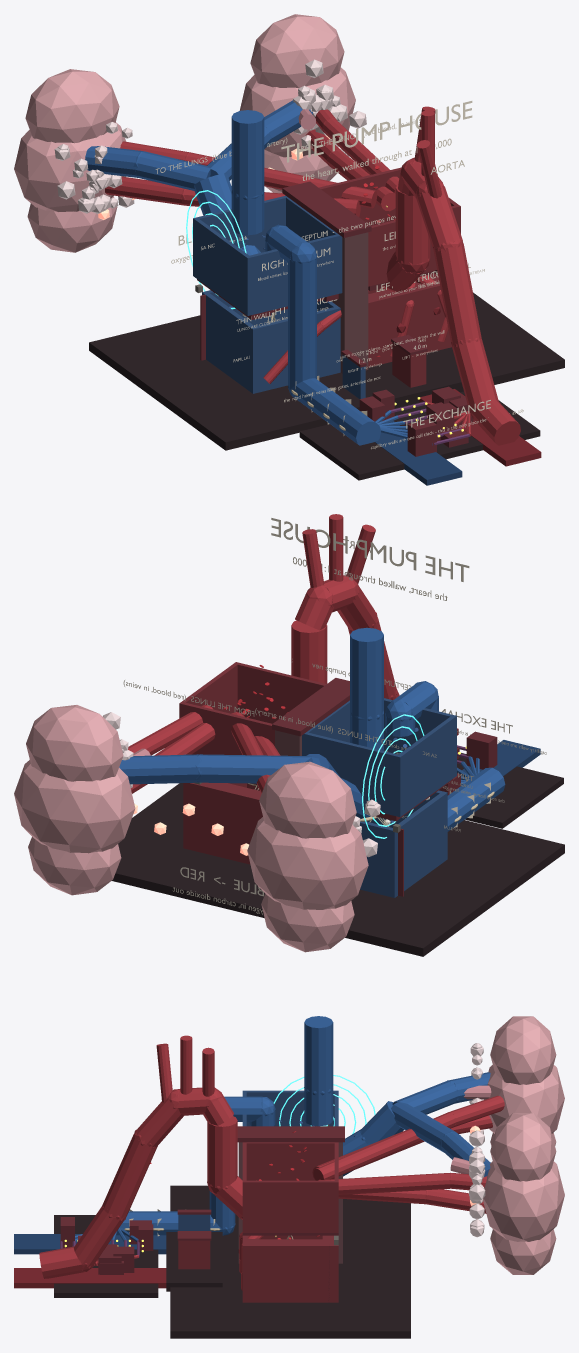
Rendered from body-heart.glb.
3 views of the same model, one above another, from view 1: azimuth 30°, elevation 25°; view 2: azimuth 150°, elevation 25°; view 3: azimuth 270°, elevation 25° (orthographic). The views are drawn at different scales.
Visible parts, largest first — view 1: Plinth, LungL_Lobe1, LungR_Lobe1, LungL_Lobe2, LV_WallS, Ex_Floor, RA_WallS, RV_WallS, IVC_2, Septum, RA_WallW, RV_WallW (+36 smaller); view 2: Plinth, LungL_Lobe2, LungR_Lobe2, LungR_Lobe1, LungL_Lobe1, LV_WallN, RA_WallN, RA_WallW, LungR_Lobe3, LungL_Lobe3, LA_WallS, RV_WallW (+27 smaller); view 3: Plinth, LA_WallE, LungR_Lobe2, LV_WallE, LungL_Lobe1, LungR_Lobe1, LA_WallW, LungL_Lobe2, Ex_Floor, SVC_1, AortaArch_4, Road_Out (+36 smaller).
Boxes of the visible parts, x1,y1,x2,y2 form: Plinth: (89, 292, 564, 450); LungL_Lobe1: (25, 69, 119, 143); LungR_Lobe1: (250, 14, 344, 88); LungL_Lobe2: (14, 122, 125, 211); LV_WallS: (368, 277, 451, 367); Ex_Floor: (299, 391, 540, 480); RA_WallS: (245, 234, 342, 315); RV_WallS: (250, 306, 340, 393); IVC_2: (288, 256, 316, 389); Septum: (332, 232, 368, 373); RA_WallW: (195, 219, 248, 314); RV_WallW: (205, 293, 253, 391); Plinth: (112, 783, 564, 956); LungL_Lobe2: (247, 817, 368, 909); LungR_Lobe2: (14, 760, 135, 853); LungR_Lobe1: (26, 705, 123, 781); LungL_Lobe1: (259, 761, 356, 838); LV_WallN: (183, 782, 262, 864); RA_WallN: (302, 732, 402, 817); RA_WallW: (399, 716, 454, 814); LungR_Lobe3: (28, 837, 121, 895); LungL_Lobe3: (261, 894, 354, 952); LA_WallS: (234, 662, 326, 723); RV_WallW: (397, 793, 444, 895); Plinth: (170, 1185, 410, 1338); LA_WallE: (246, 1180, 334, 1232); LungR_Lobe2: (483, 1161, 564, 1241); LV_WallE: (258, 1239, 322, 1302); LungL_Lobe1: (490, 1016, 556, 1084); LungR_Lobe1: (490, 1113, 556, 1181); LA_WallW: (246, 1142, 334, 1180); LungL_Lobe2: (484, 1065, 564, 1133); Ex_Floor: (54, 1215, 158, 1297); SVC_1: (304, 1016, 333, 1093); AortaArch_4: (102, 1134, 156, 1218); Road_Out: (14, 1268, 166, 1288).
Size of what is drawn, in the model's own units: 86.98 by 70 by 137.
